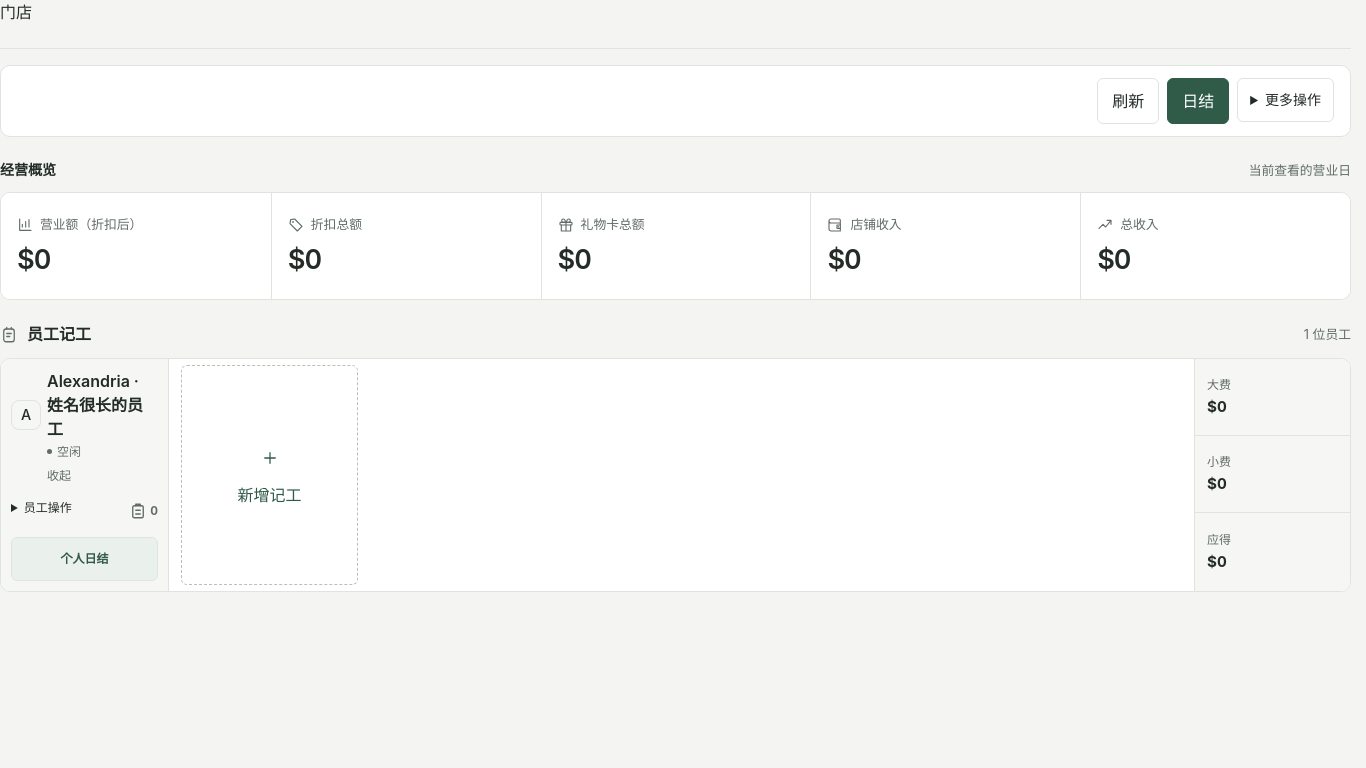
Test case: 项目时长默认值 › 快速记工展示全部 30 分钟档位，点击直接保存，只有三档采用三列
Click the button "新增记工" at (270, 475), box x1=181 y1=365 x2=358 y2=585
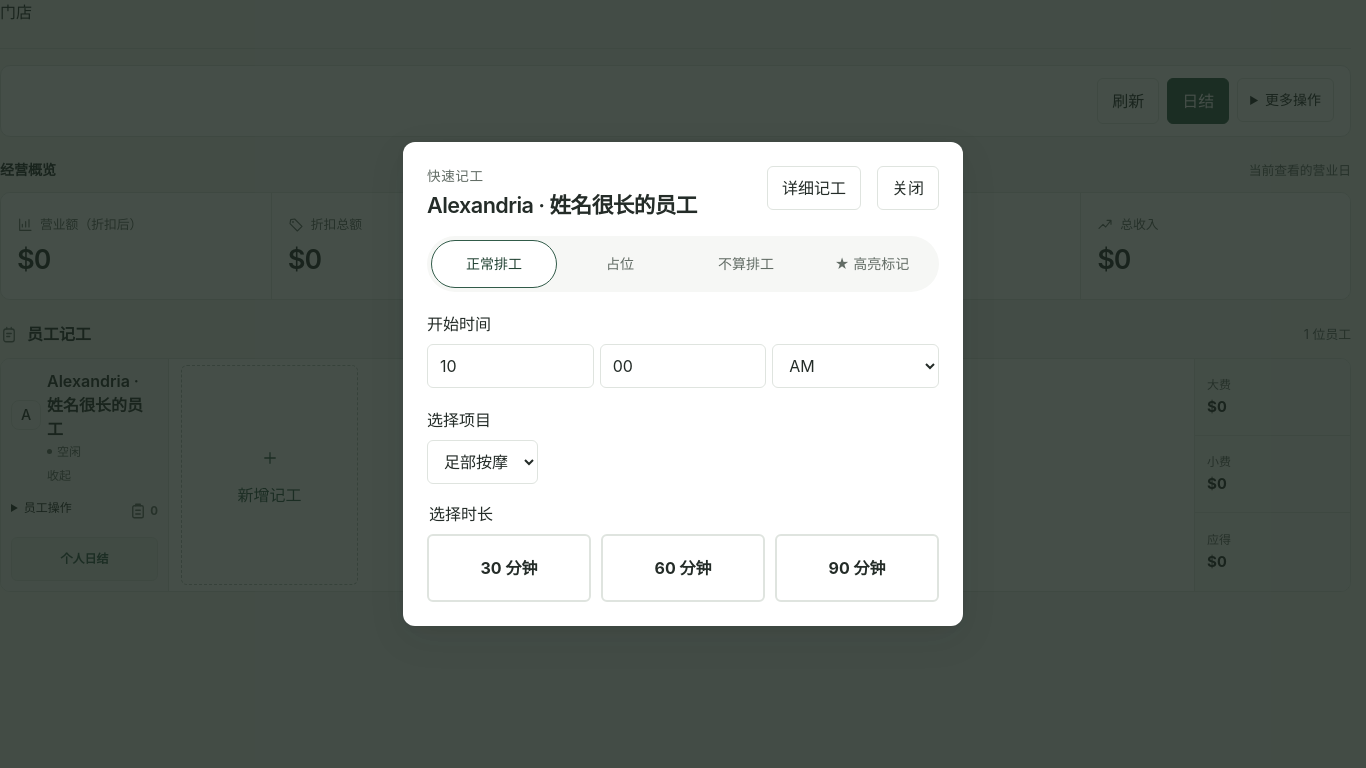
Expected: the dropdown labelled "选择项目" shows "足部按摩", x1=427 y1=440 x2=538 y2=484
Expected: the label "选择项目" is shown, x1=427 y1=410 x2=491 y2=430
Click the button "30 分钟" at (509, 568), box x1=427 y1=534 x2=591 y2=602
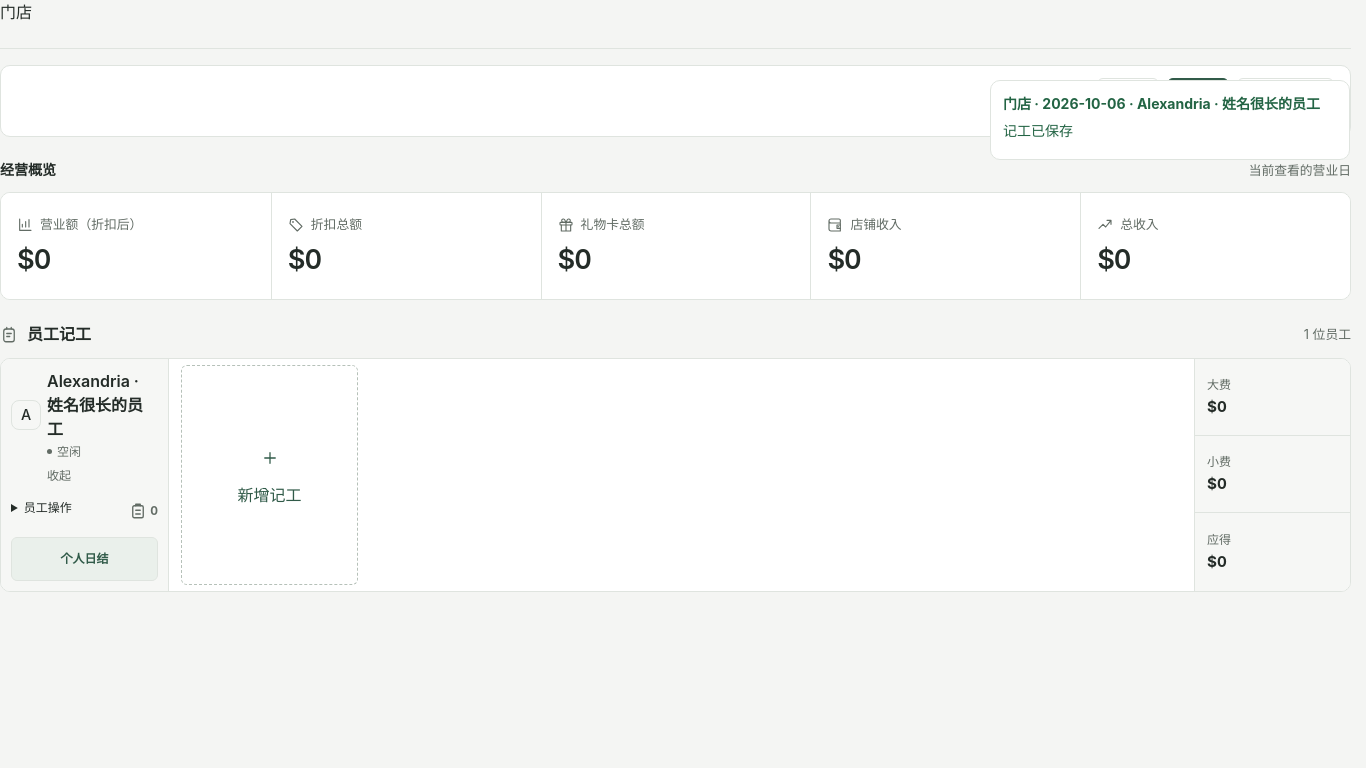
Expected: the dialog is gone
